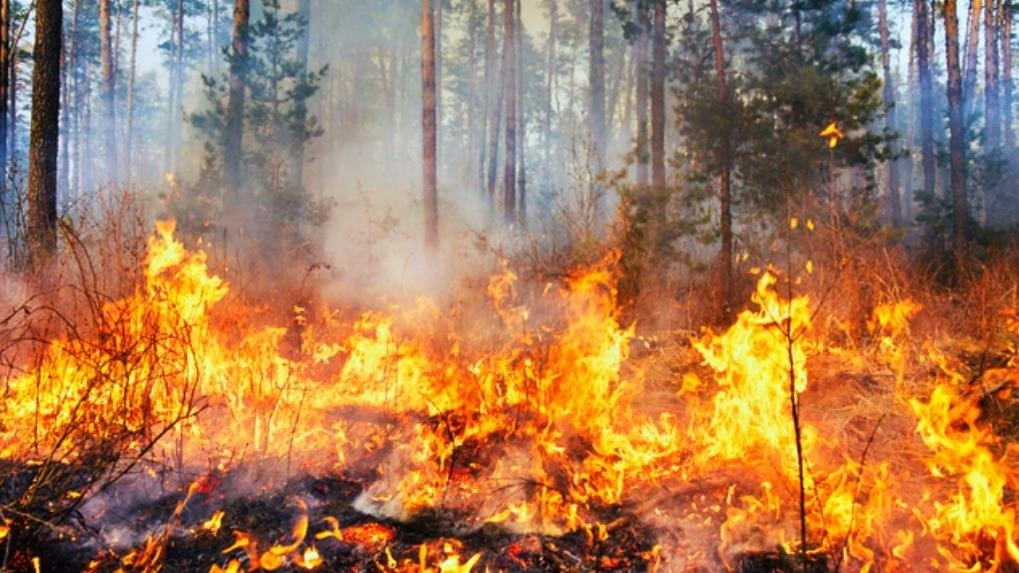fire: (65, 216, 1016, 572)
